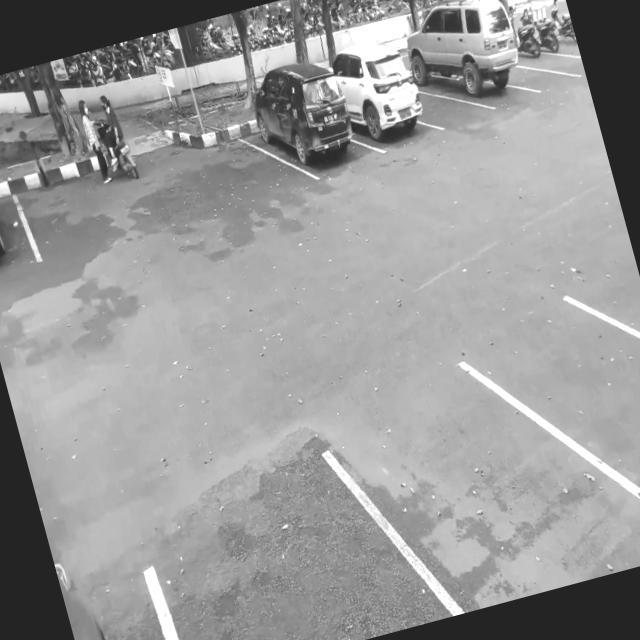car: (401, 0, 529, 121), (248, 71, 364, 190), (336, 42, 432, 158)
